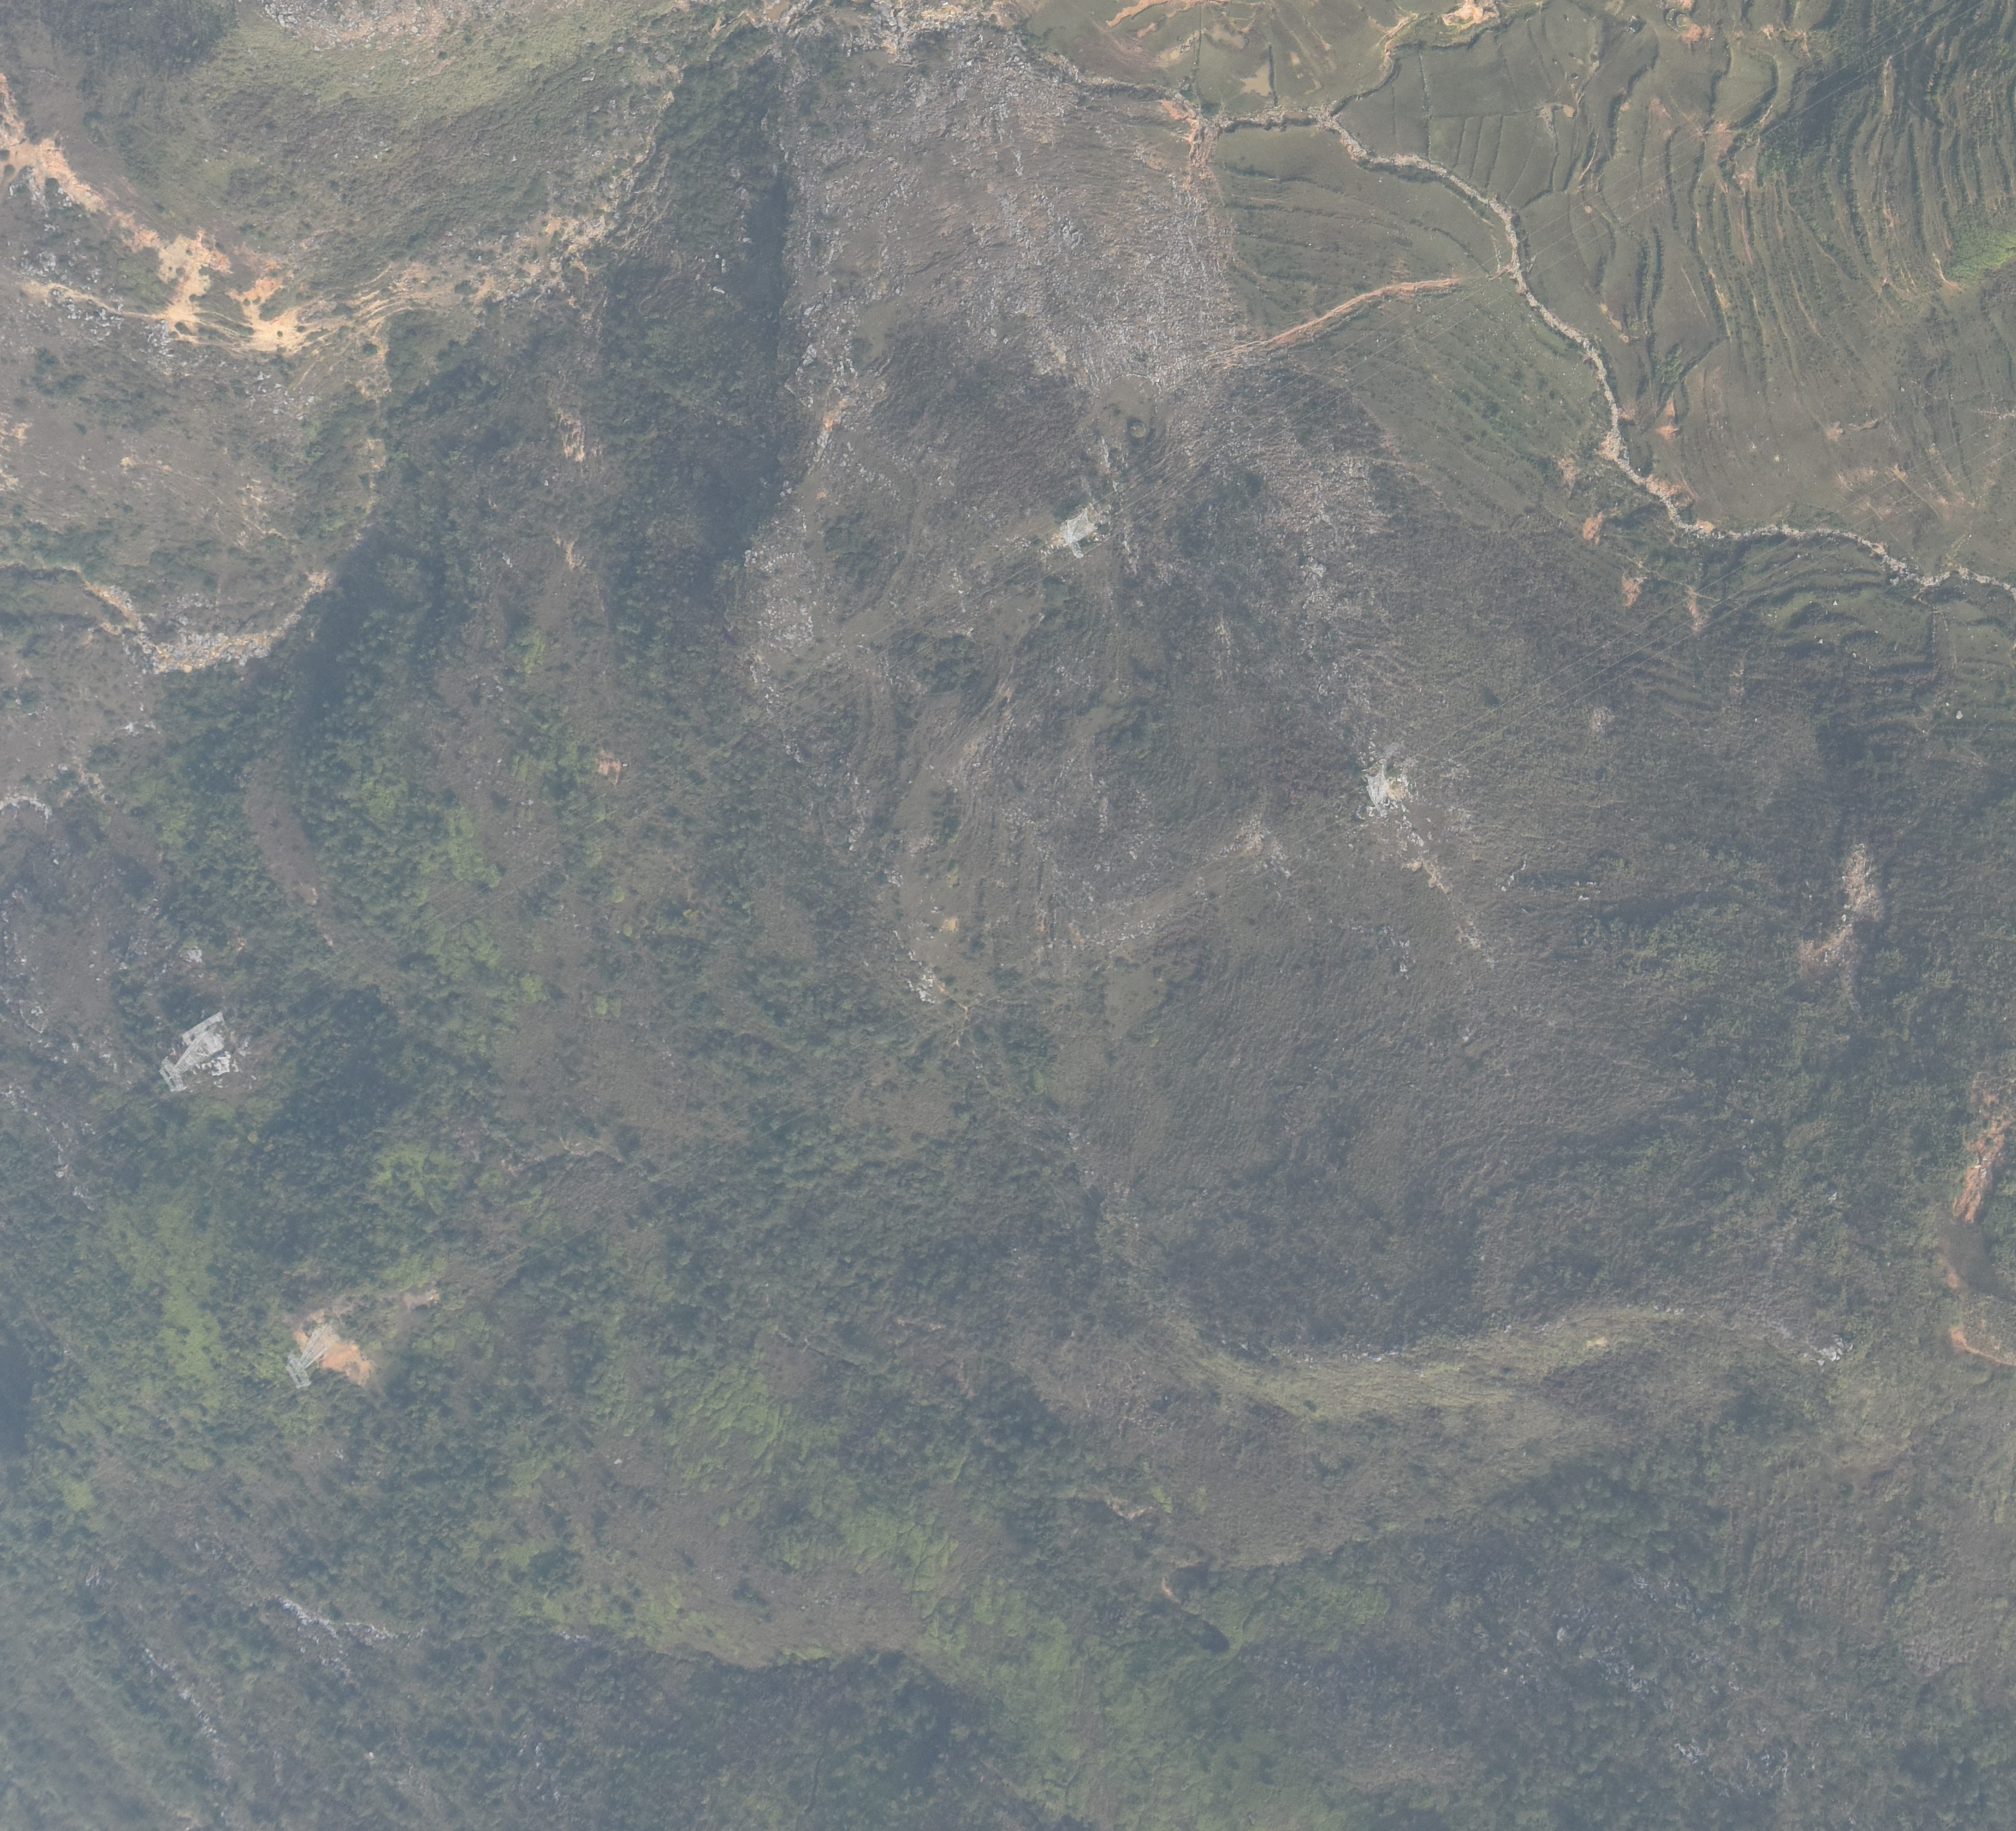cable-tower: (158, 1011, 234, 1094), (286, 1322, 335, 1392), (1059, 506, 1096, 558), (1364, 764, 1393, 813)
